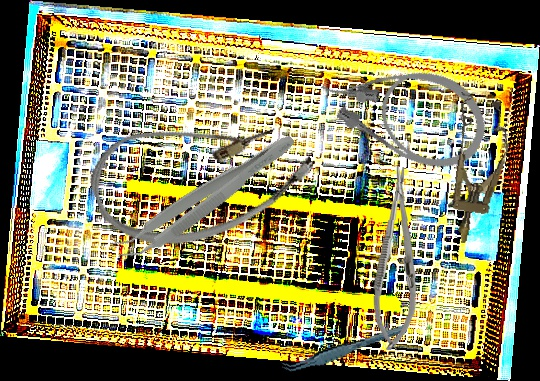Cannula: (80, 82, 324, 268), (308, 32, 500, 184)
Needle Holder: (369, 165, 425, 352)
Speculum: (435, 92, 517, 248)
Tissue Forceps: (108, 121, 301, 271), (278, 323, 411, 375)
